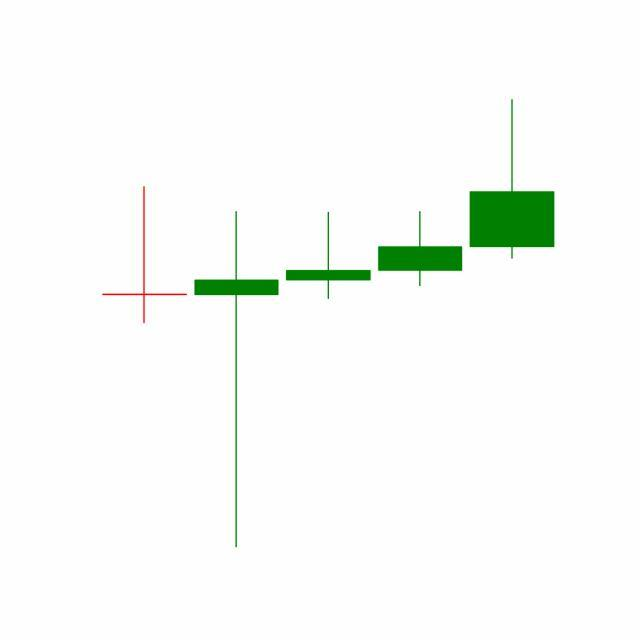Gravestone Doji: (374, 210, 468, 288)
